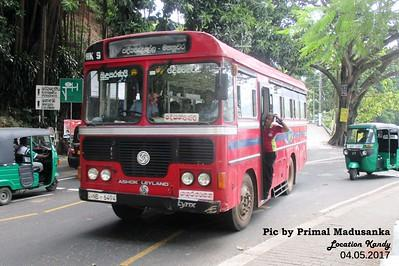bus: (70, 34, 307, 232)
